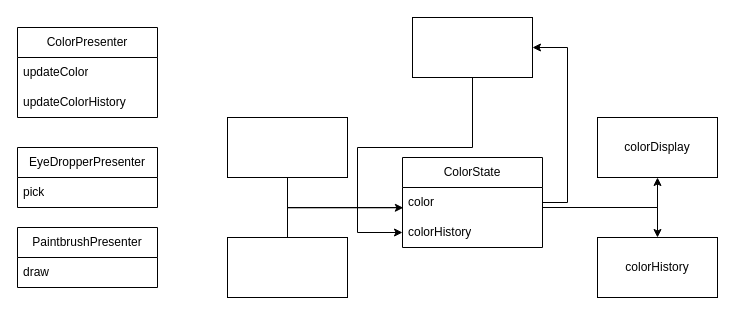
Image size: 735x315. Some labels were removed from this diagram. Each missing label, with the centre of its shape:
"colorPicker" goes at pixel 287 267.
"eyeDropper" goes at pixel 287 147.
"paintbrush" goes at pixel 472 47.
